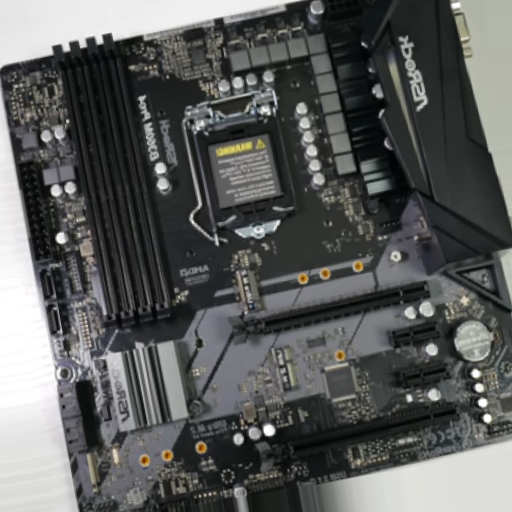CPU: (188, 87, 297, 241)
GPU: (258, 403, 461, 470), (227, 279, 431, 344)
MOTHERBOARD: (3, 5, 507, 512)
RAM: (50, 32, 174, 333)
SSD: (270, 348, 296, 390), (236, 271, 258, 312), (77, 456, 99, 497)
